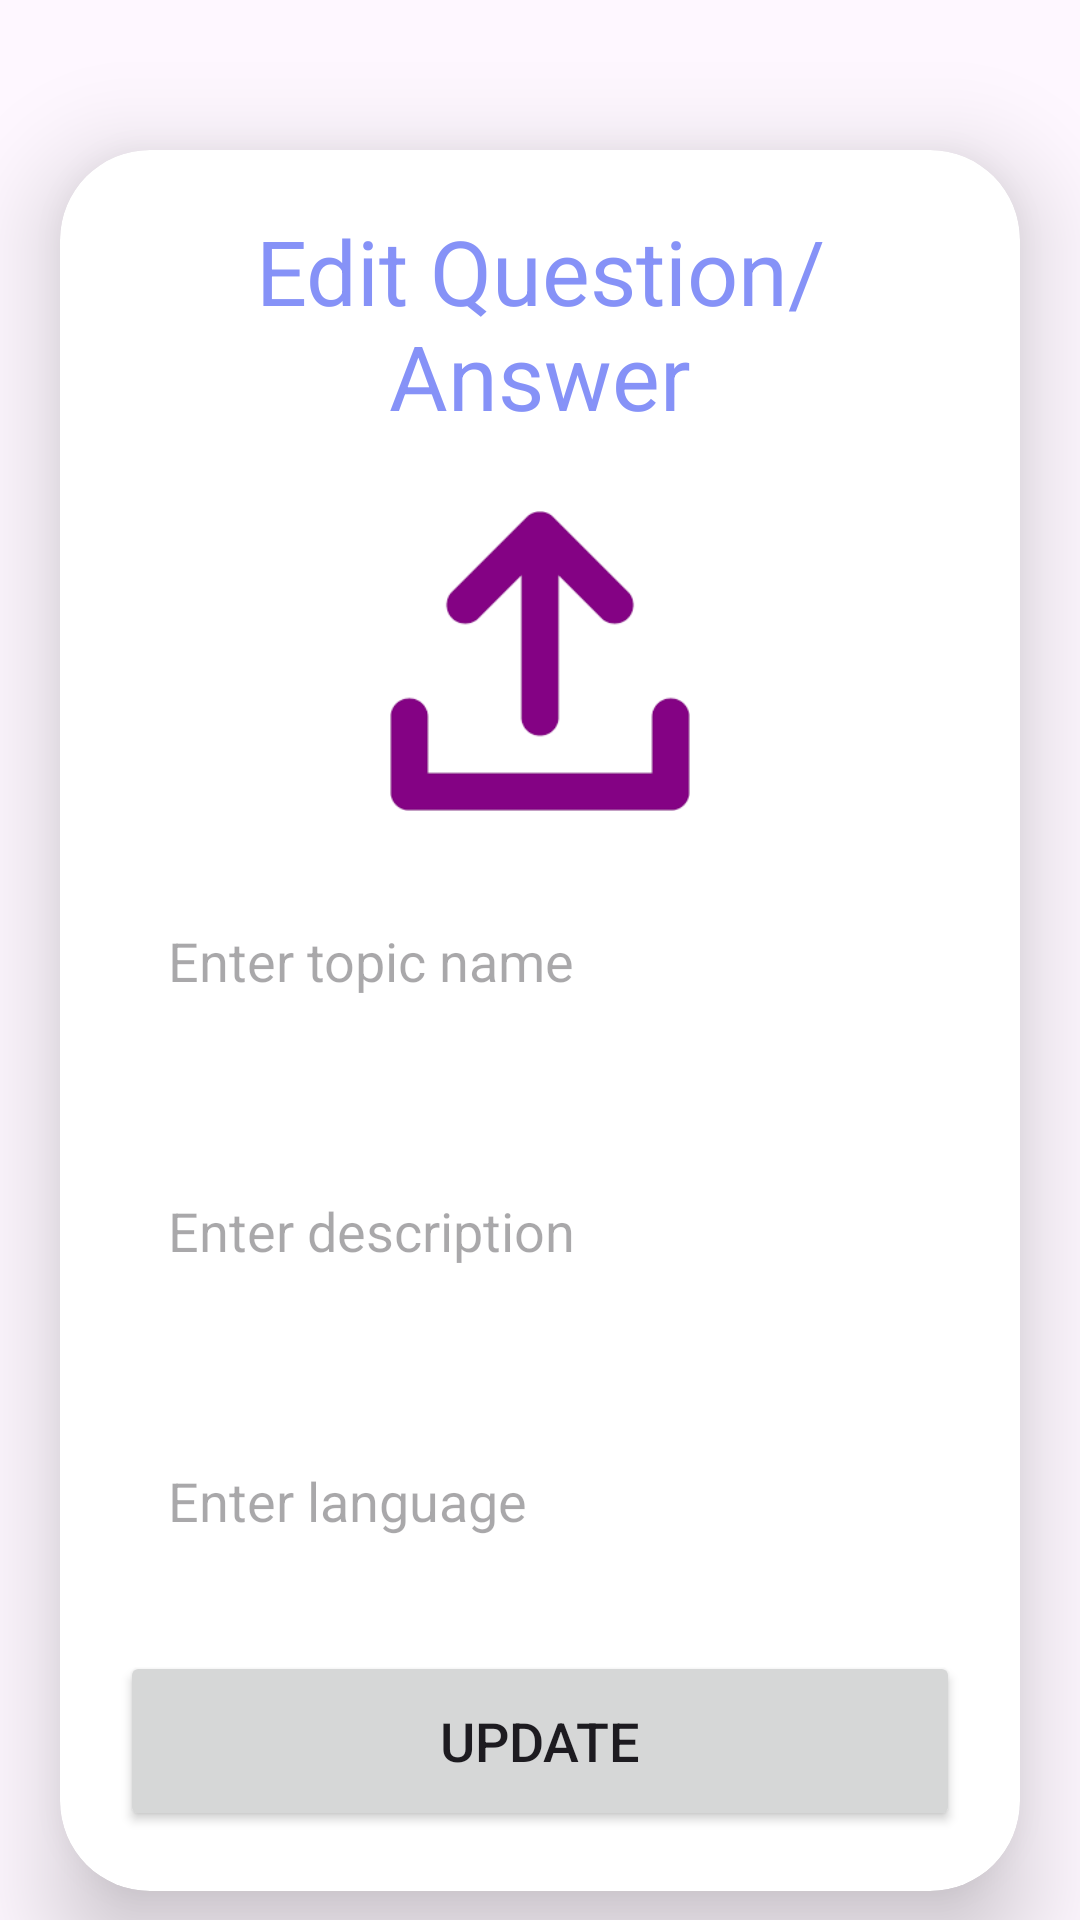

Icons on this 1080px x 1920px Android screen, each with its box as (x1, y1, x2, y2):
uploadimg: (390, 511, 690, 811)
